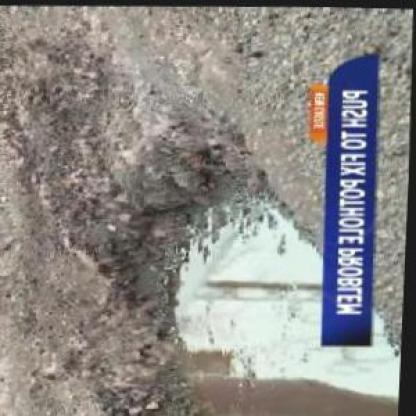pothole: (62, 100, 412, 414)
